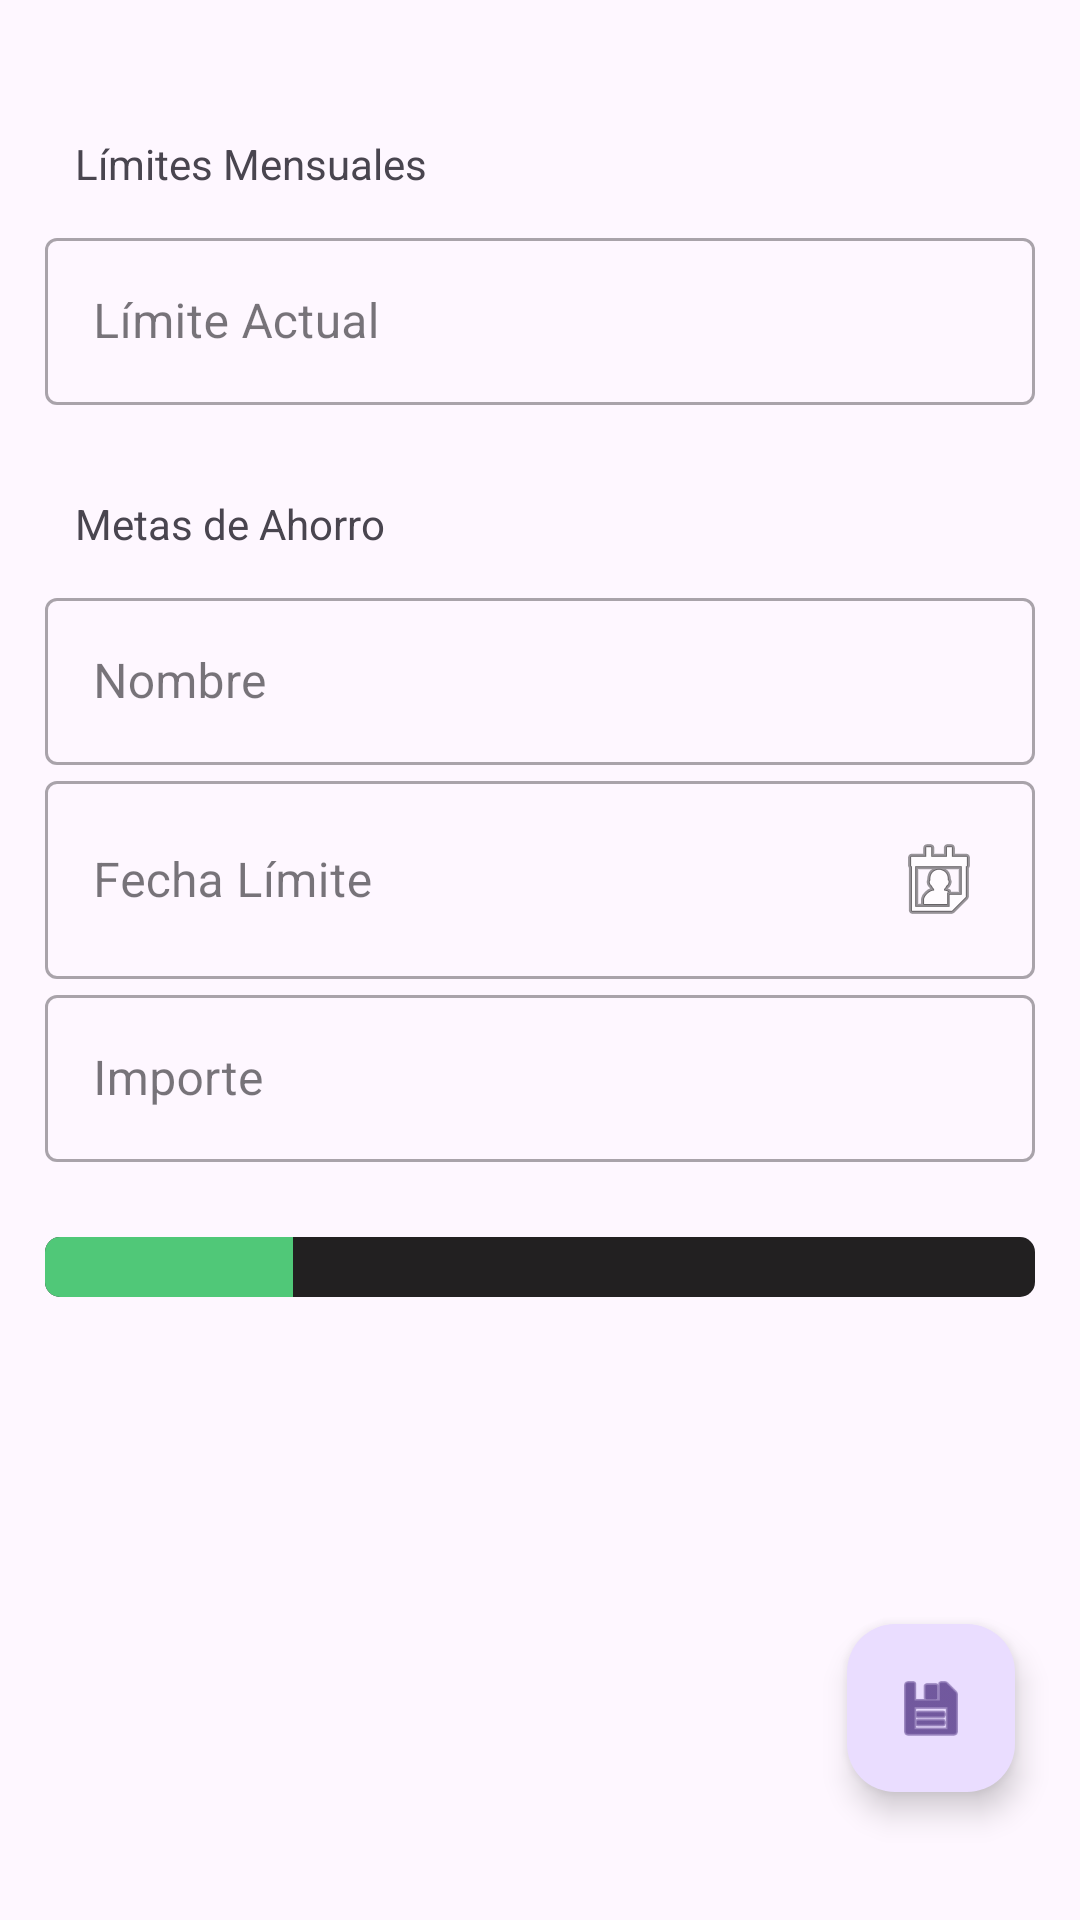

Named icons in this screenshot (1080px x 1920px) and their bounding boxes, (x1, y1, x2, y2):
save: (847, 1624, 1015, 1792)
